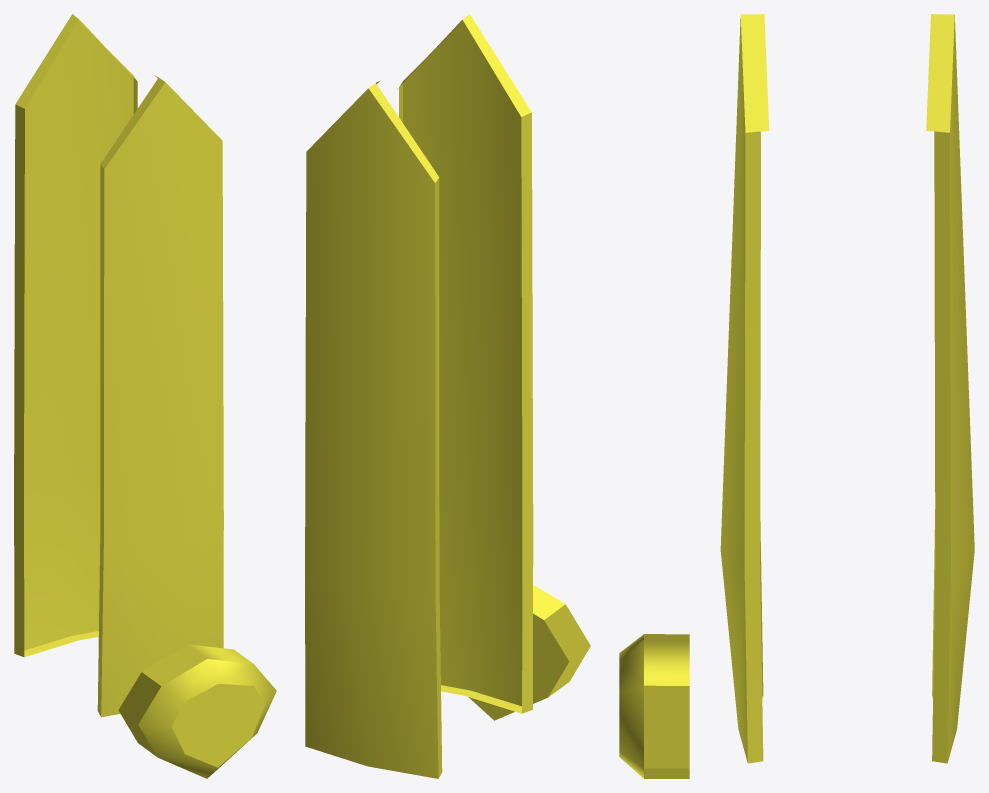
The model's file is topaz.fbx.
3 views of the same model, side by side, from view 1: azimuth 30°, elevation 25°; view 2: azimuth 150°, elevation 25°; view 3: azimuth 270°, elevation 25° (orthographic). The views are drawn at different scales.
Parts seen in each view (by area): view 1: topaz4; view 2: topaz4; view 3: topaz4.
Part boxes in pixels (x1,y1,x2,y2): topaz4: [14, 14, 276, 778]; topaz4: [305, 14, 590, 778]; topaz4: [619, 14, 974, 778].
Size of the model in its own units: 7.55 by 34.62 by 14.58.
